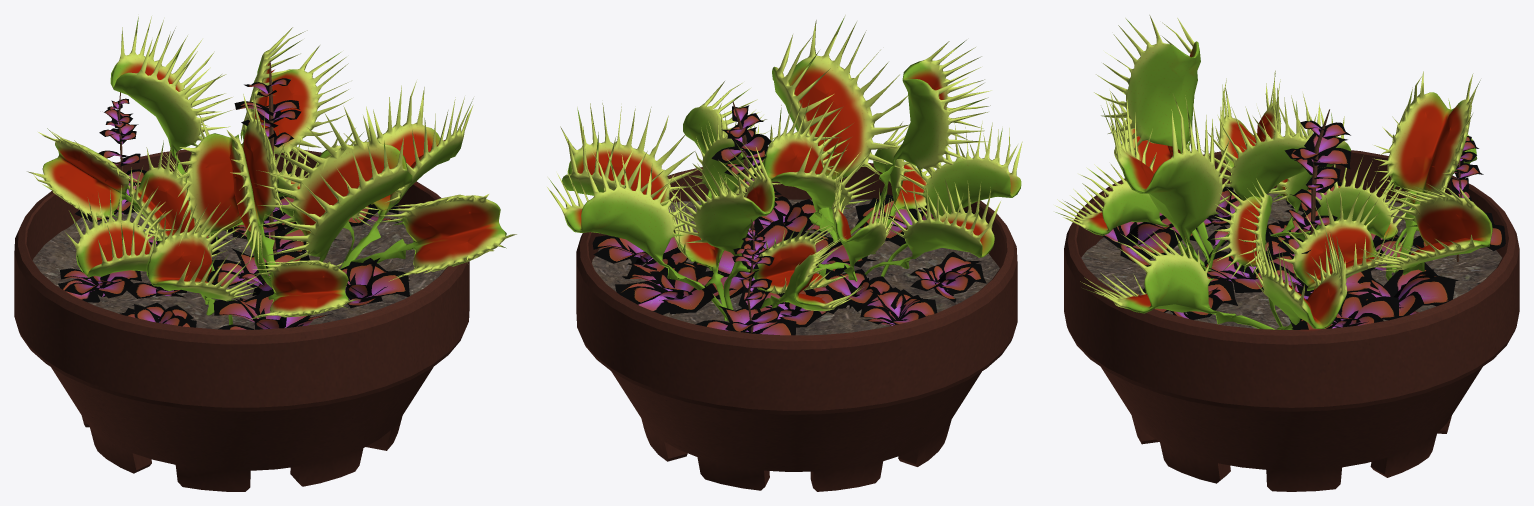
3 views of the same model, side by side, from view 1: azimuth 30°, elevation 25°; view 2: azimuth 150°, elevation 25°; view 3: azimuth 270°, elevation 25° (orthographic). The views are drawn at different scales.
Visible parts, largest first — view 1: object_0; view 2: object_0; view 3: object_0.
Part boxes in pixels (left/top/right/bottom): object_0: left=14, top=16, right=516, bottom=491; object_0: left=547, top=15, right=1022, bottom=491; object_0: left=1055, top=15, right=1519, bottom=491.
Bounding box in the file's own units: 19.95 × 16.18 × 18.59.
